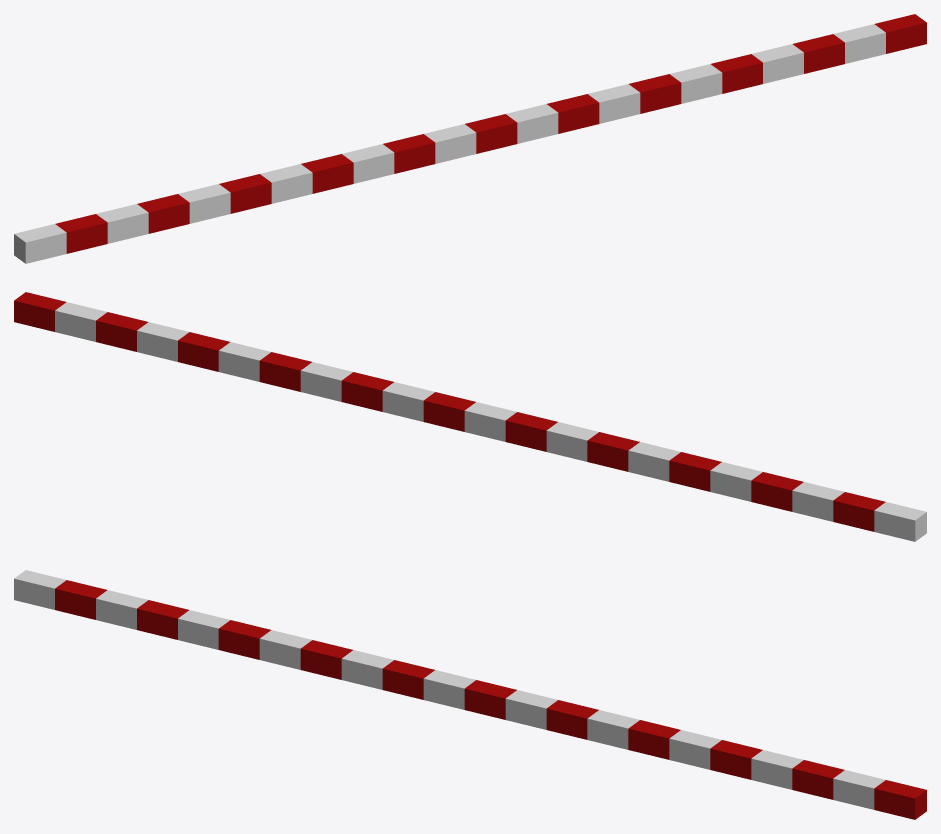
Rendered from szlabanRurka.obj.
3 views of the same model, one above another, from view 1: azimuth 30°, elevation 25°; view 2: azimuth 150°, elevation 25°; view 3: azimuth 330°, elevation 25° (orthographic).
Bounding box in the file's own units: 4.4 × 0.1 × 0.1.
